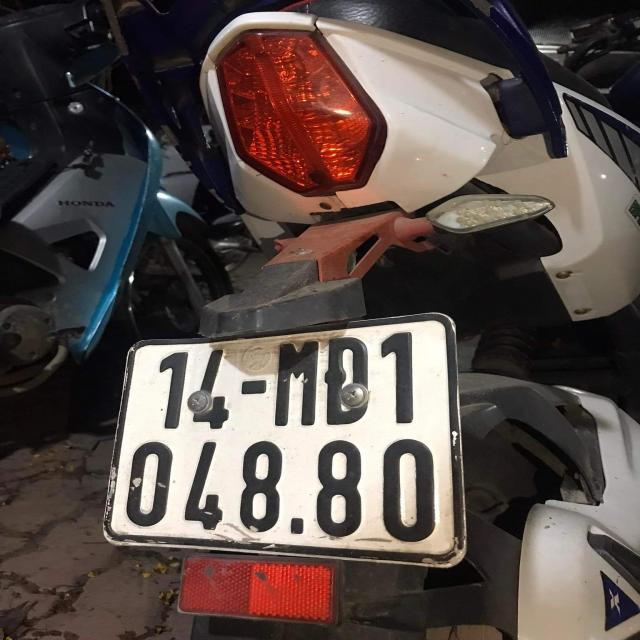0: (378, 435, 441, 544), (121, 438, 175, 529)
1: (376, 328, 424, 426), (152, 348, 187, 432)
4: (185, 347, 236, 431), (179, 440, 225, 530)
8: (310, 435, 368, 538), (234, 436, 286, 532)
D: (320, 334, 371, 428)
M: (273, 334, 319, 428)
